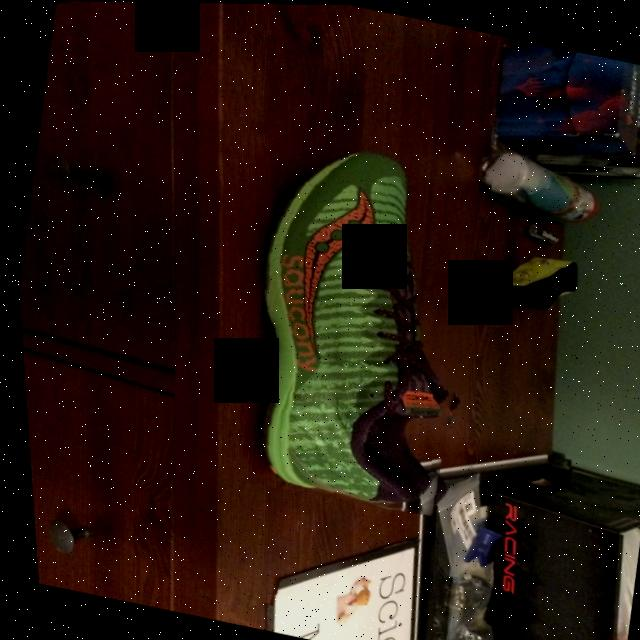shoe: (213, 127, 511, 525)
